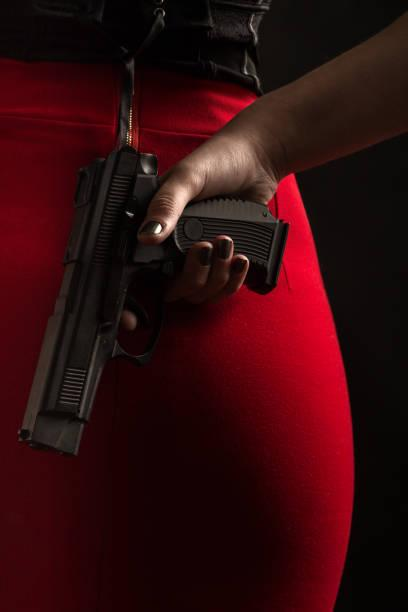weapon: (14, 139, 285, 461)
